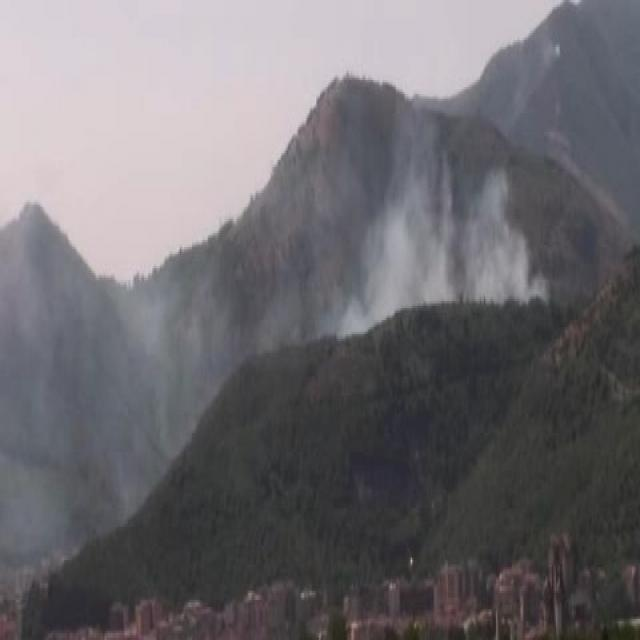smoke: (338, 157, 529, 337)
